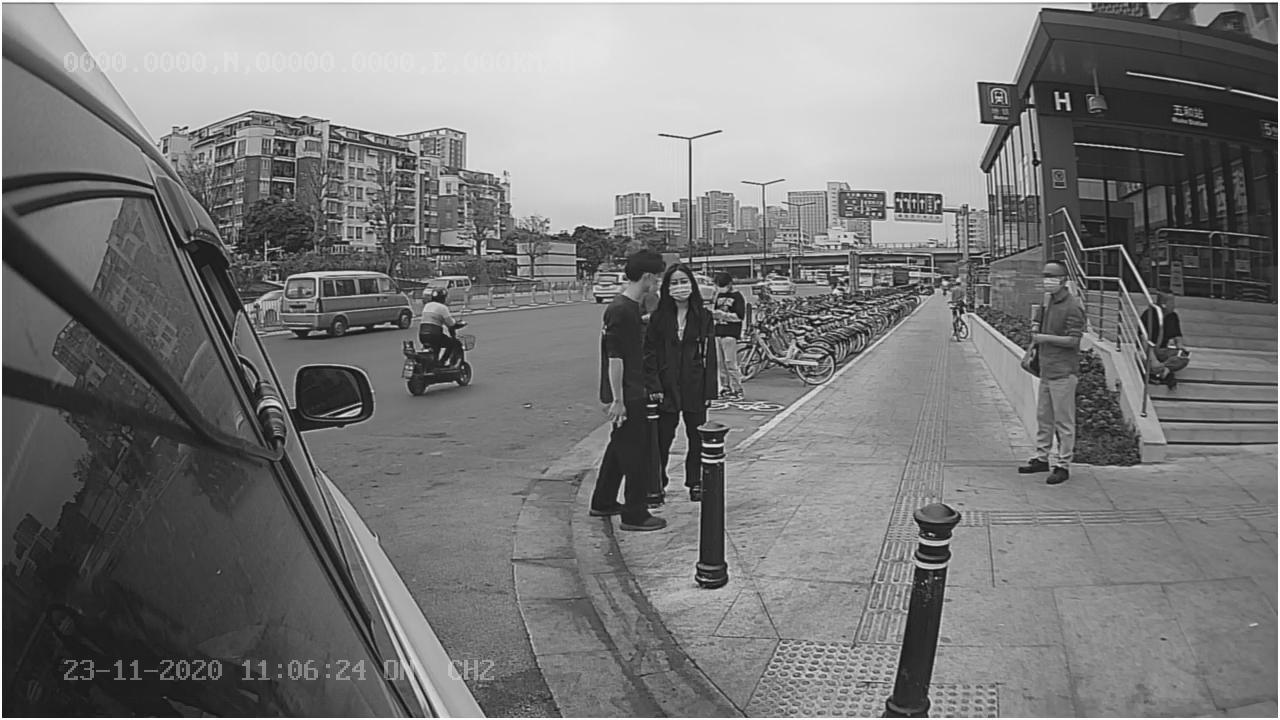person: (1012, 255, 1092, 492)
